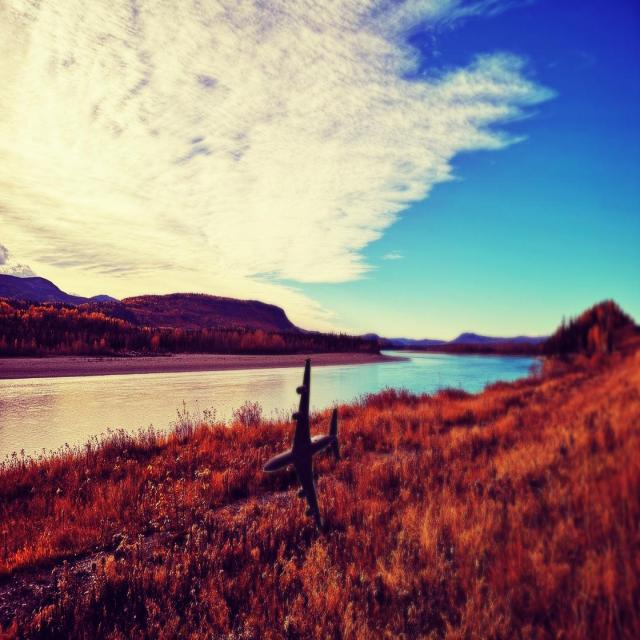airplane: (262, 357, 340, 530)
